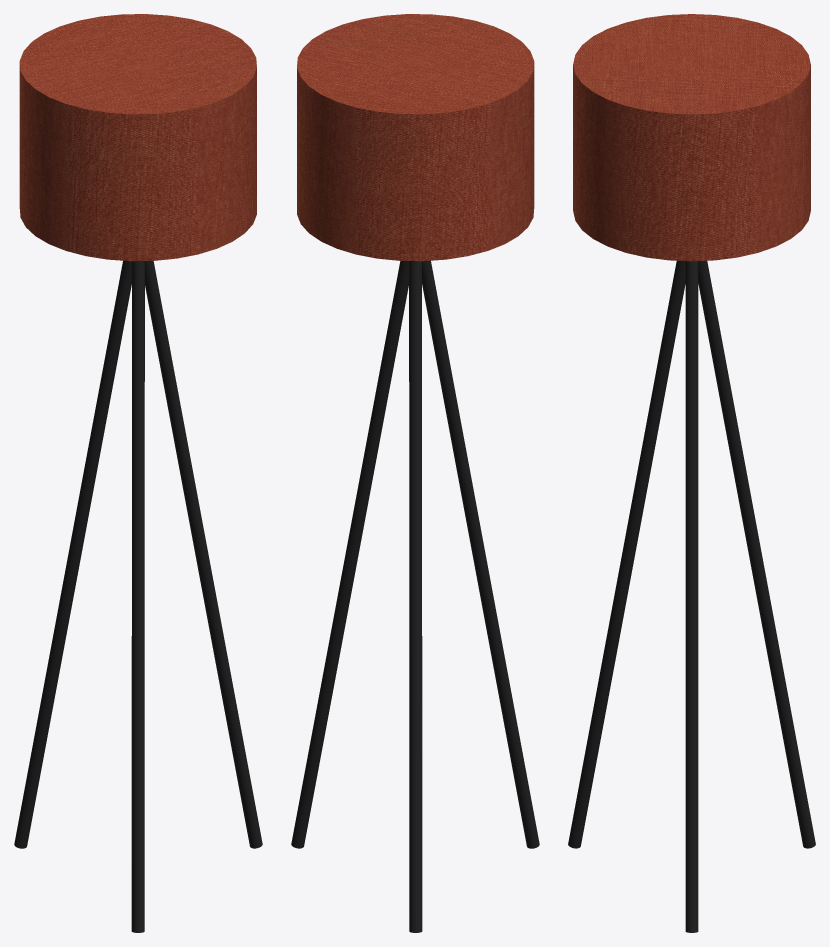
Rendered from state-mlrpcv6c-bdvt.glb.
The picture shows the model from 3 angles, left to right: view 1: azimuth 30°, elevation 25°; view 2: azimuth 150°, elevation 25°; view 3: azimuth 270°, elevation 25°; orthographic projection.
Parts seen in each view (by area): view 1: assetPrim:227cb298980678-19c731c8141:lamp-shade, assetPrim:227cb298980678-19c731c8141:lamp-leg-2, assetPrim:227cb298980678-19c731c8141:lamp-leg-3, assetPrim:227cb298980678-19c731c8141:lamp-leg-1; view 2: assetPrim:227cb298980678-19c731c8141:lamp-shade, assetPrim:227cb298980678-19c731c8141:lamp-leg-3, assetPrim:227cb298980678-19c731c8141:lamp-leg-2, assetPrim:227cb298980678-19c731c8141:lamp-leg-1; view 3: assetPrim:227cb298980678-19c731c8141:lamp-shade, assetPrim:227cb298980678-19c731c8141:lamp-leg-1, assetPrim:227cb298980678-19c731c8141:lamp-leg-2, assetPrim:227cb298980678-19c731c8141:lamp-leg-3.
Part boxes in pixels (x1,y1,x2,y2): assetPrim:227cb298980678-19c731c8141:lamp-shade: (19, 14, 256, 261); assetPrim:227cb298980678-19c731c8141:lamp-leg-2: (131, 261, 144, 932); assetPrim:227cb298980678-19c731c8141:lamp-leg-3: (14, 260, 131, 848); assetPrim:227cb298980678-19c731c8141:lamp-leg-1: (145, 261, 262, 848); assetPrim:227cb298980678-19c731c8141:lamp-shade: (297, 14, 534, 261); assetPrim:227cb298980678-19c731c8141:lamp-leg-3: (409, 261, 422, 932); assetPrim:227cb298980678-19c731c8141:lamp-leg-2: (422, 260, 539, 848); assetPrim:227cb298980678-19c731c8141:lamp-leg-1: (291, 261, 408, 848); assetPrim:227cb298980678-19c731c8141:lamp-shade: (573, 14, 810, 261); assetPrim:227cb298980678-19c731c8141:lamp-leg-1: (685, 261, 698, 932); assetPrim:227cb298980678-19c731c8141:lamp-leg-2: (568, 260, 685, 848); assetPrim:227cb298980678-19c731c8141:lamp-leg-3: (698, 260, 815, 848).
Size of the model in its own units: 0.4837 by 1.66 by 0.4586.
Materials: 6 (1 with a texture image).
